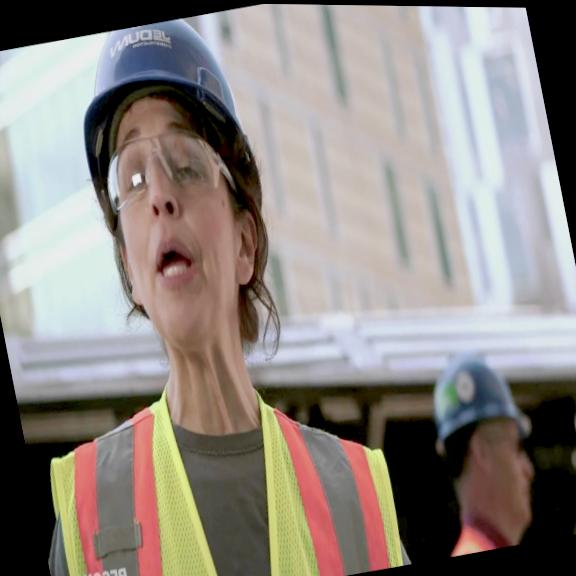safety_vest: (32, 344, 412, 576)
